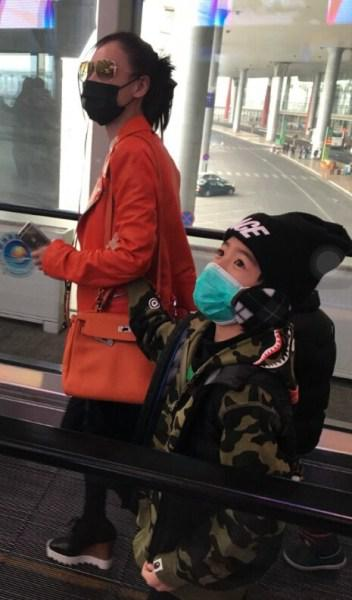OK: (196, 235, 274, 324), (82, 60, 146, 125)
